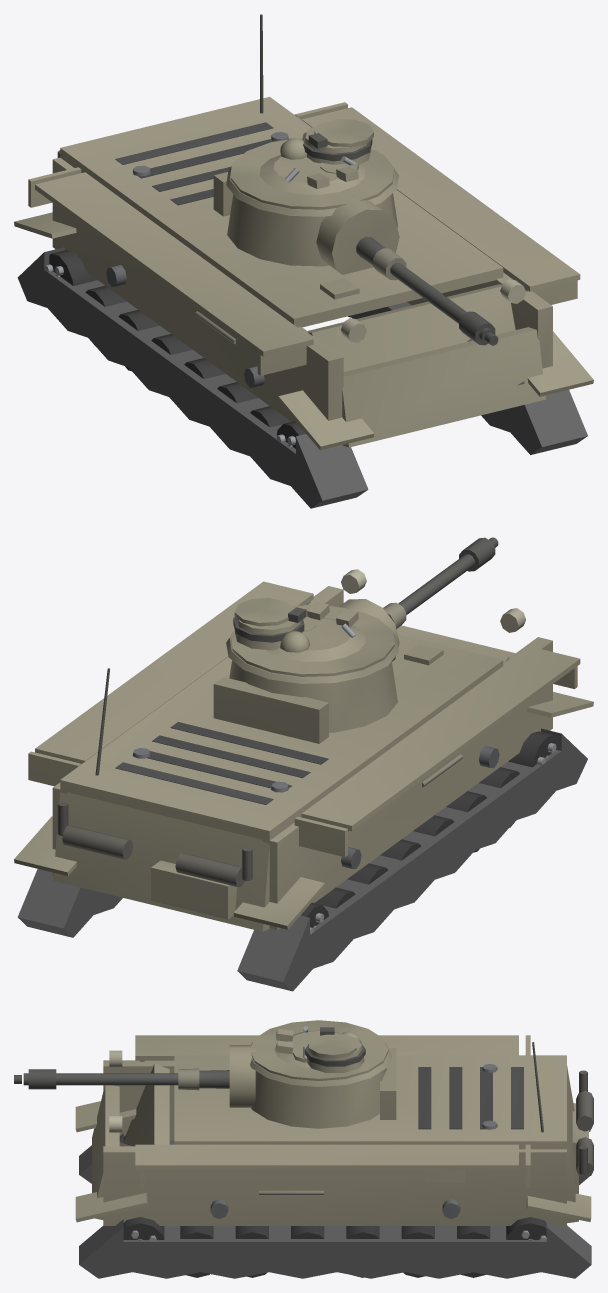
Rendered from chito.glb.
3 renders of one model, top to bottom at view 1: azimuth 30°, elevation 25°; view 2: azimuth 150°, elevation 25°; view 3: azimuth 270°, elevation 25°, orthographic. The views are drawn at different scales.
Parts seen in each view (by area): view 1: hullSide, hullTop, tracks, lowerPlate, turretRoof, glacis, turretFront, mantlet, barrel, turretSide, wheel7, turretRear; view 2: hullSide, hullTop, tracks, hullRear, turretRoof, turretRear, turretFront, barrel, turretSide, glacis, wheel6, mantlet (+1 smaller); view 3: hullSide, tracks, hullTop, turretRoof, turretFront, barrel, hullRear, glacis, lowerPlate, mantlet, turretSide, turretRear (+8 smaller).
Boxes of the visible parts, x1,y1,x2,y2 form: hullSide: [28, 102, 580, 448]; hullTop: [60, 96, 503, 327]; tracks: [14, 212, 593, 508]; lowerPlate: [342, 327, 545, 447]; turretRoof: [230, 119, 394, 209]; glacis: [307, 278, 524, 385]; turretFront: [227, 193, 397, 266]; mantlet: [316, 198, 399, 274]; barrel: [356, 236, 498, 345]; turretSide: [226, 166, 398, 216]; wheel7: [44, 250, 97, 285]; turretRear: [213, 172, 233, 216]; hullSide: [28, 569, 580, 930]; hullTop: [60, 634, 503, 841]; tracks: [14, 692, 593, 991]; hullRear: [53, 668, 271, 931]; turretRoof: [230, 598, 394, 676]; turretRear: [213, 677, 328, 743]; turretFront: [229, 660, 397, 732]; barrel: [383, 537, 498, 628]; turretSide: [226, 633, 398, 683]; glacis: [396, 629, 509, 665]; wheel6: [508, 731, 556, 767]; mantlet: [339, 599, 399, 661]; hullSide: [103, 1035, 566, 1225]; tracks: [75, 1101, 591, 1278]; hullTop: [174, 1055, 566, 1149]; turretRoof: [250, 1020, 388, 1080]; turretFront: [251, 1068, 386, 1128]; barrel: [14, 1068, 229, 1090]; hullRear: [532, 1042, 593, 1223]; glacis: [96, 1063, 169, 1191]; lowerPlate: [92, 1085, 119, 1219]; mantlet: [229, 1045, 255, 1107]; turretSide: [250, 1042, 391, 1086]; turretRear: [380, 1048, 396, 1119].
Bounding box in the file's own units: 3.78 × 2.92 × 7.13.
